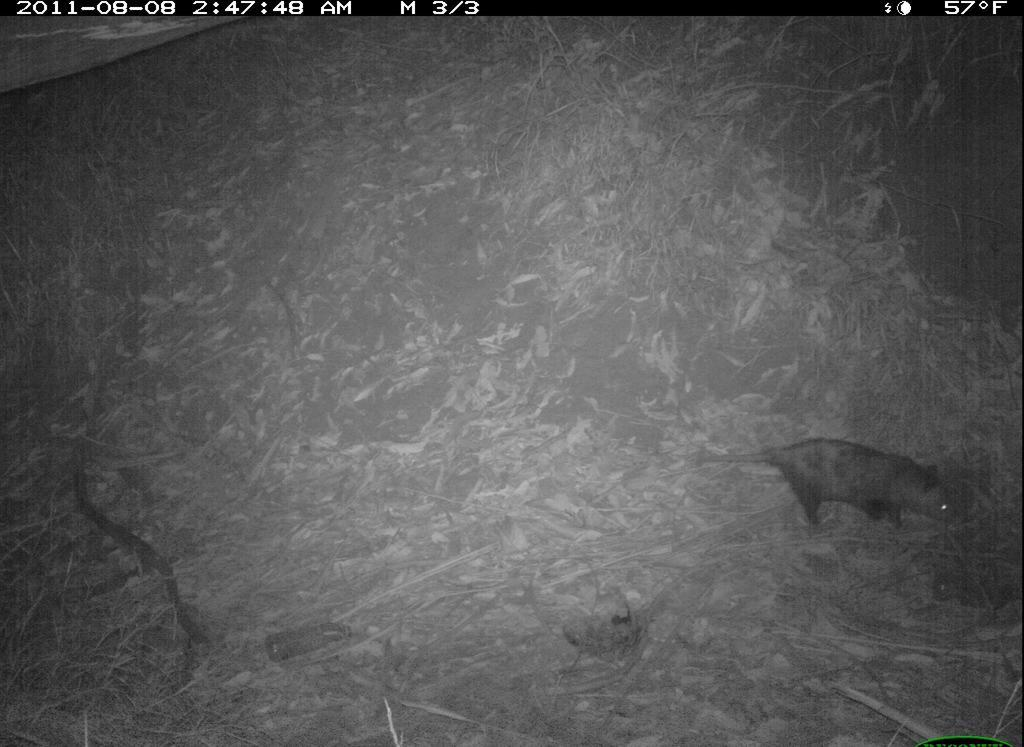opossum: (676, 426, 969, 549)
